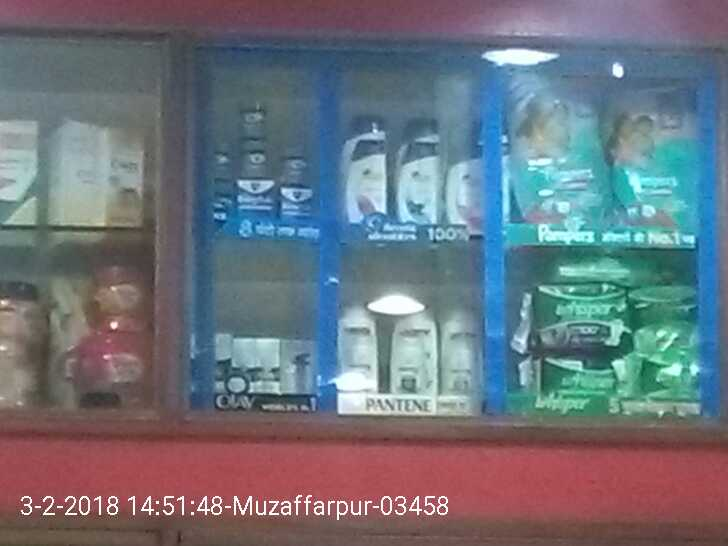vicks: (205, 101, 319, 227)
